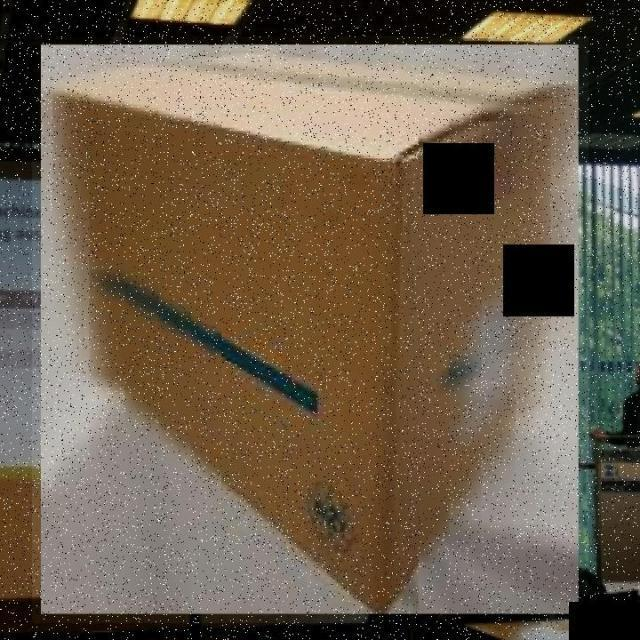box: (31, 36, 588, 624)
